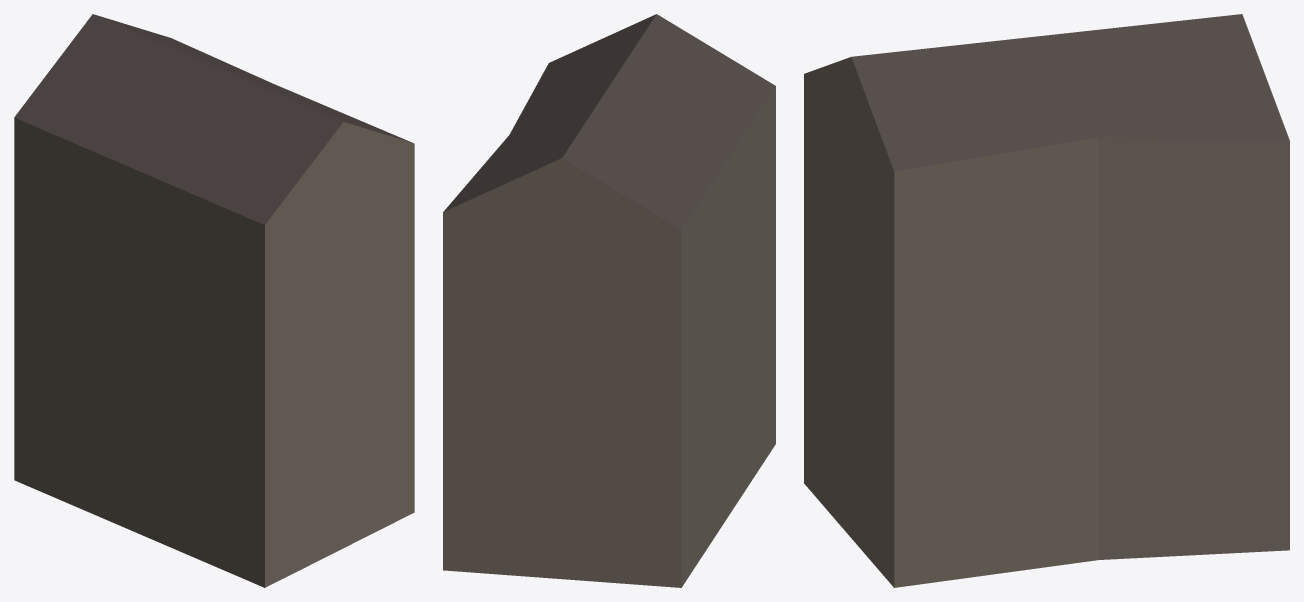
3 views of the same model, side by side, from view 1: azimuth 30°, elevation 25°; view 2: azimuth 150°, elevation 25°; view 3: azimuth 270°, elevation 25° (orthographic). The views are drawn at different scales.
Parts seen in each view (by area): view 1: HP-w1198842501; view 2: HP-w1198842501; view 3: HP-w1198842501.
Boxes of the visible parts, bbox=[...] form: HP-w1198842501: bbox=[14, 14, 414, 587]; HP-w1198842501: bbox=[443, 14, 775, 587]; HP-w1198842501: bbox=[804, 14, 1289, 587].
Size of the model in its own units: 4.63 by 7.06 by 6.45.
